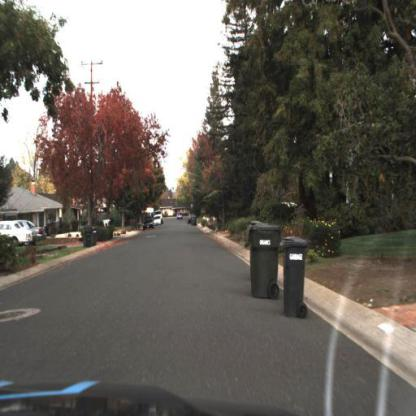car: (22, 219, 50, 248), (28, 223, 49, 239), (153, 211, 164, 227), (143, 217, 154, 231), (177, 213, 184, 220)
